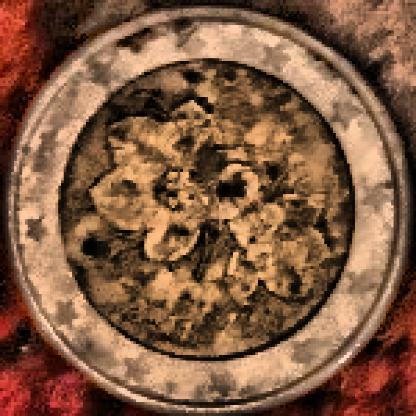coin: (0, 6, 413, 413)
